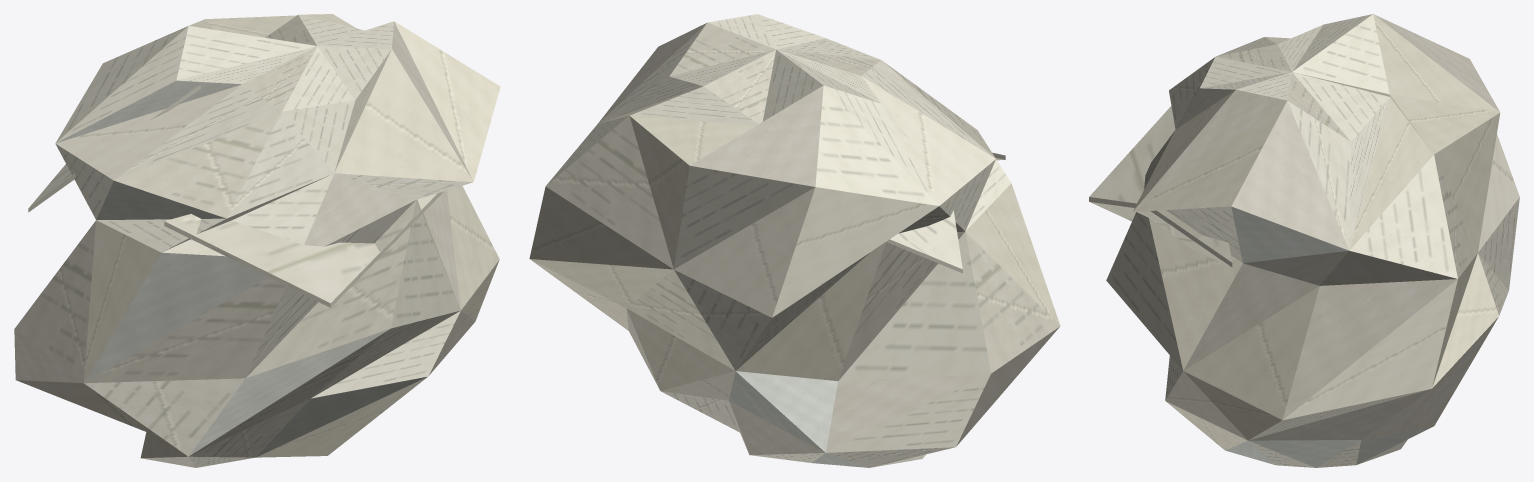
File: crumpled_paper_ball.glb
The picture shows the model from 3 angles, left to right: view 1: azimuth 30°, elevation 25°; view 2: azimuth 150°, elevation 25°; view 3: azimuth 270°, elevation 25°; orthographic projection. The views are drawn at different scales.
Visible parts, largest first — view 1: Crumpled Paper Ball; view 2: Crumpled Paper Ball; view 3: Crumpled Paper Ball.
Part boxes in pixels (x1=…): Crumpled Paper Ball: x1=14, y1=14, x2=500, y2=467; Crumpled Paper Ball: x1=529, y1=14, x2=1060, y2=467; Crumpled Paper Ball: x1=1089, y1=14, x2=1519, y2=467.
Size of the model in its own units: 0.0904 by 0.0765 by 0.0721.
1 material, 1 textured.
